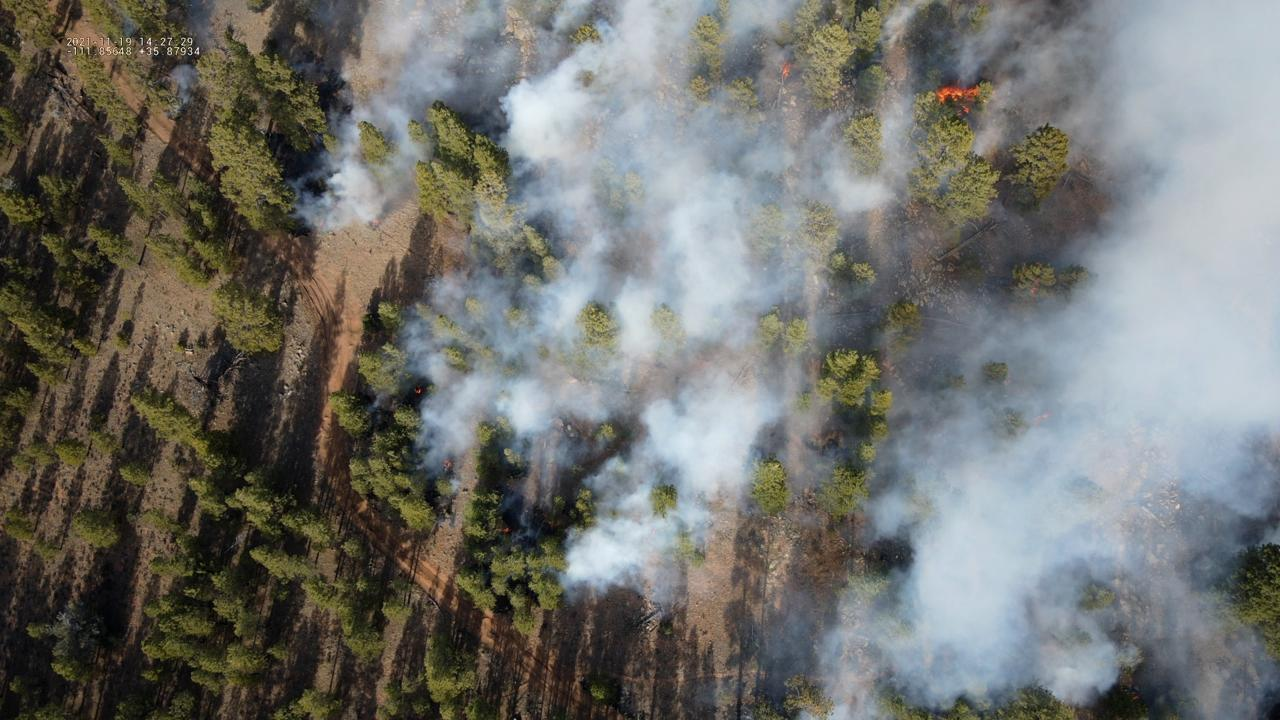fire: (936, 85, 980, 114), (1031, 410, 1052, 429), (780, 61, 794, 79), (442, 459, 453, 470), (501, 527, 512, 533), (371, 219, 380, 226), (414, 388, 423, 395), (318, 223, 324, 227)
smoke: (279, 0, 1280, 720), (164, 0, 215, 58), (168, 65, 200, 111), (120, 16, 138, 37)
